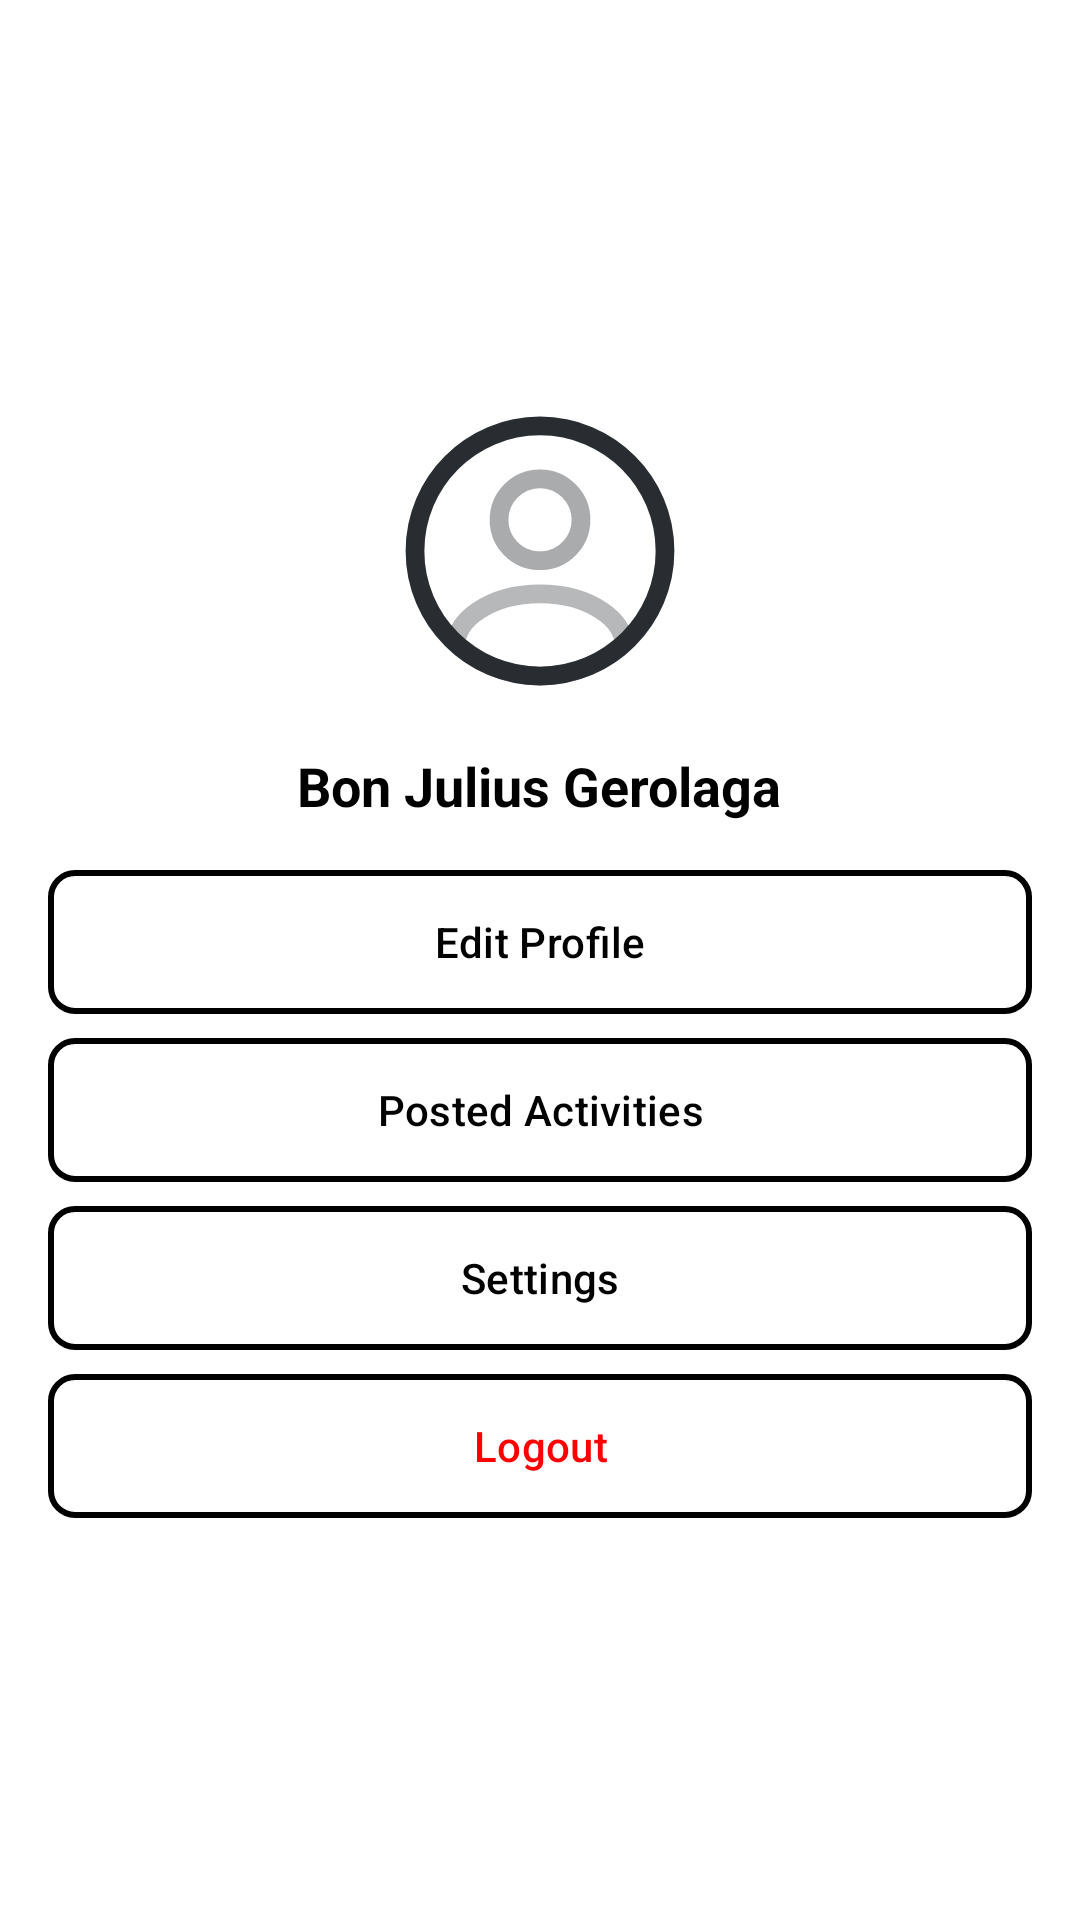

Icons on this 1080*1920 Android screen, each with the point to tap as (x=x, y=y):
Profile Image: (x=540, y=551)
